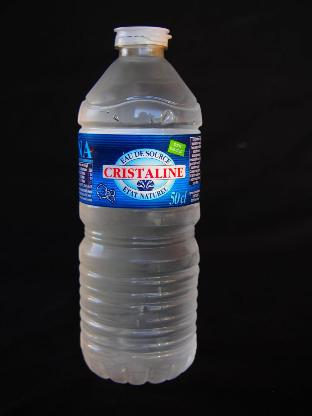Plastic Bottle: (76, 26, 202, 385)
